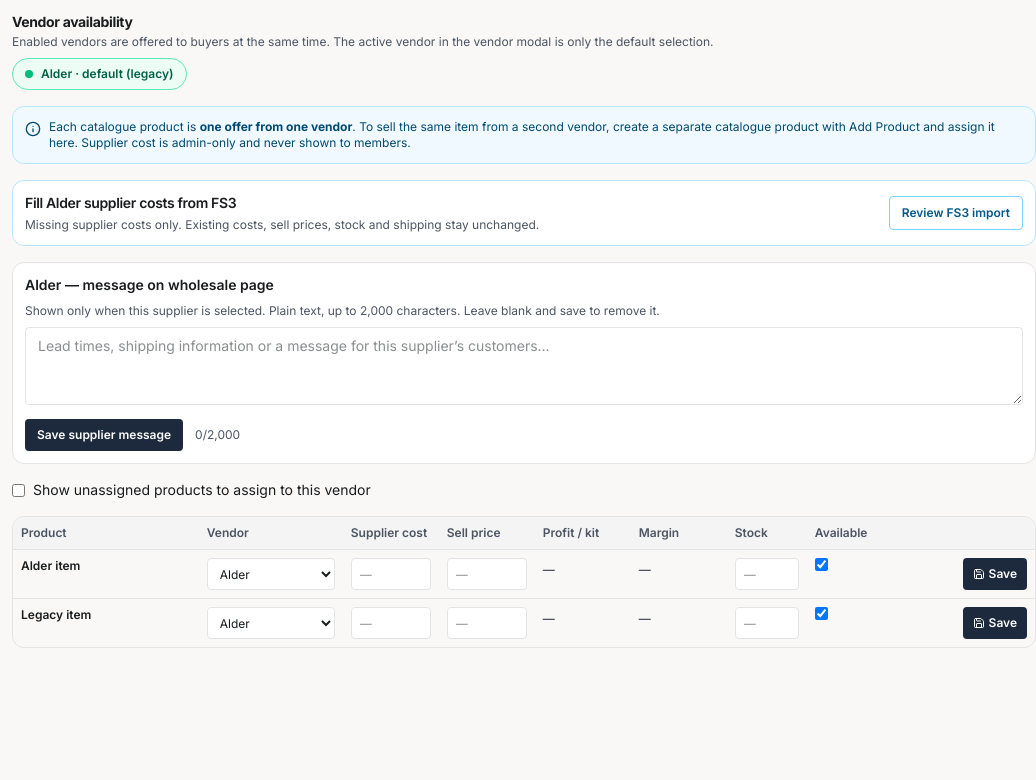
Test: scopes products and availability to the selected vendor, including legacy mappings
Expected: the row with test id "row-mv-product-a1" is shown, [13,550,1035,598]
Expected: the row with test id "row-mv-product-legacy" is shown, [13,598,1035,647]
Click the checkbox with test id "show-unassigned-products" at (18, 490), box [12,484,25,496]
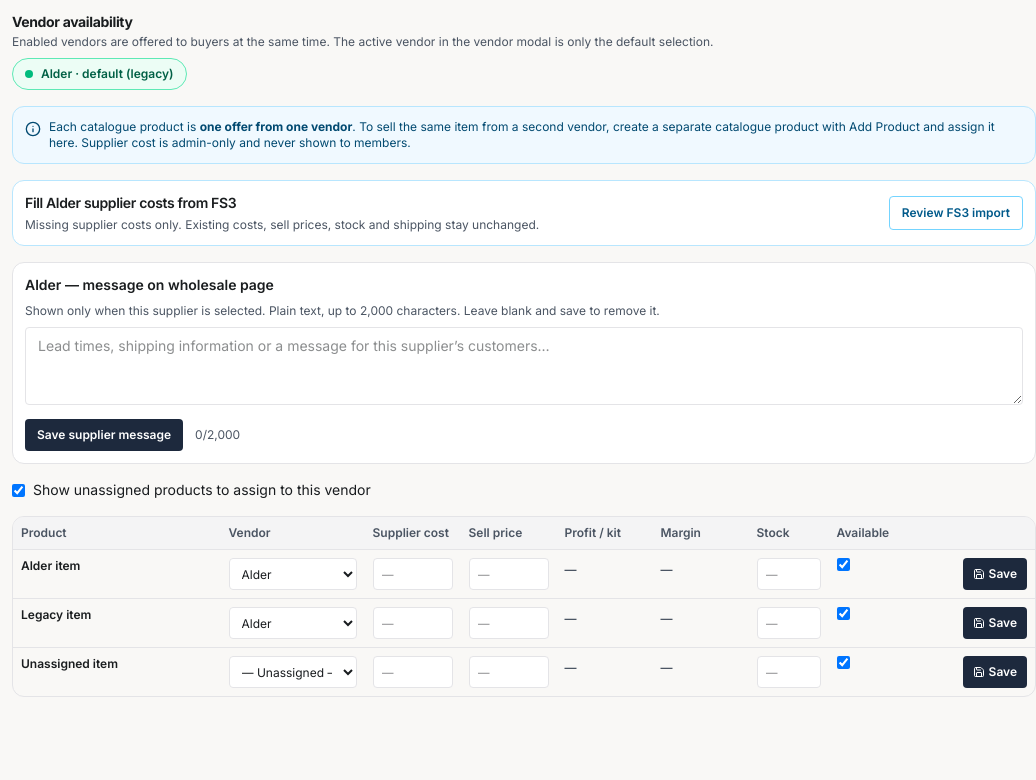
Expected: the row with test id "row-mv-product-free" is shown, [13,648,1035,696]
